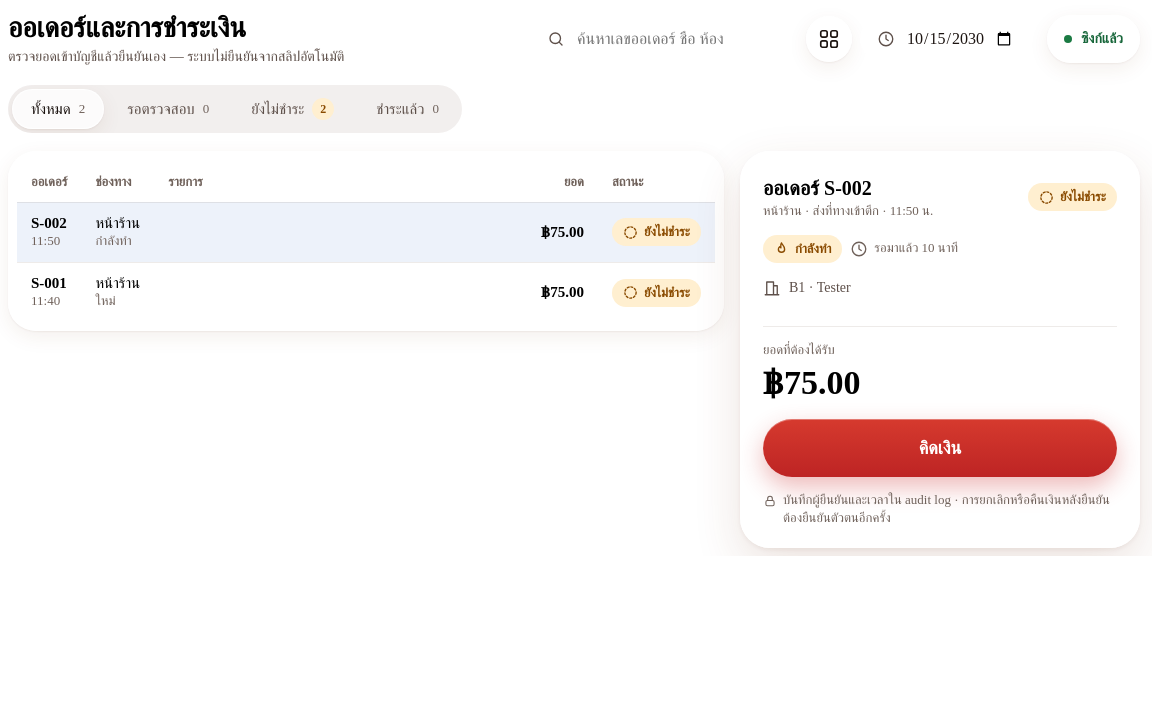
Test case: the orders table (iPad and laptop) › the first row is open in the detail panel; choosing a row shows that order
Expected: the heading "ออเดอร์ S-002" is shown, [763,177,872,199]
Click the button "S-001 11:40": (49, 293) [31,275,67,310]
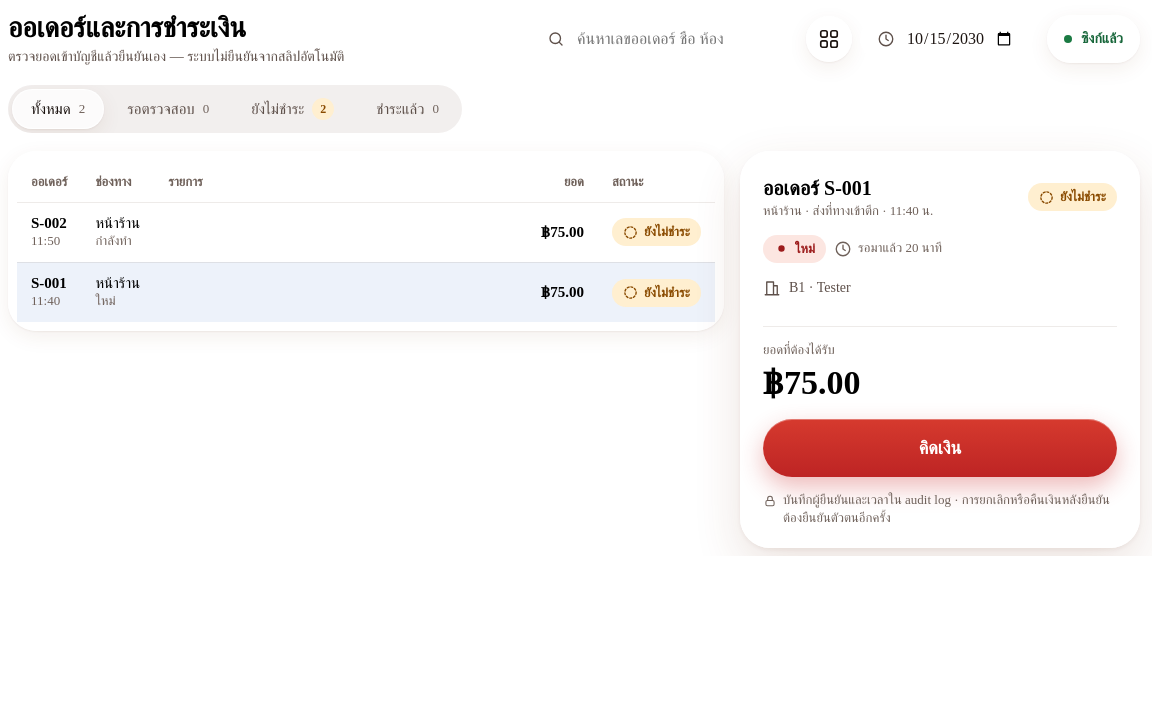
Expected: the heading "ออเดอร์ S-001" is shown, [763,177,872,199]
Clicking anywhere on the row chooses it too.
Click the row "S-002 11:50 หน้าร้าน กำลังทำ ฿75.00 ยังไม่ชำระ": (366, 232) [17,202,715,262]
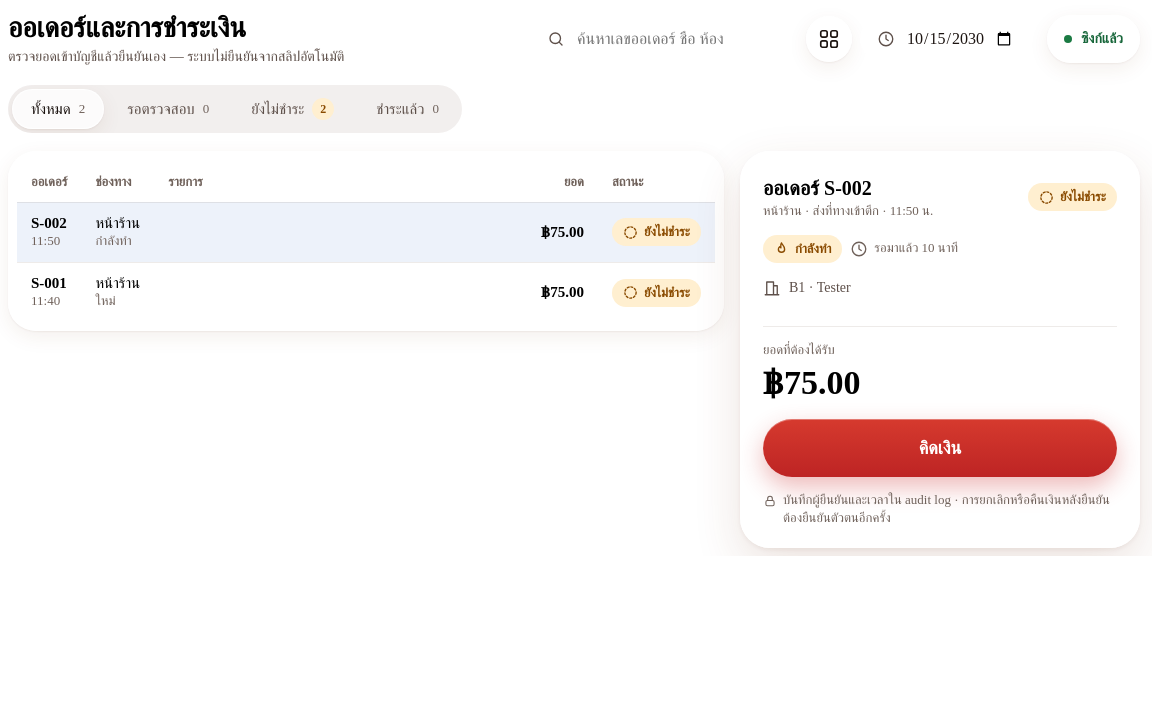
Expected: the heading "ออเดอร์ S-002" is shown, [763,177,872,199]
